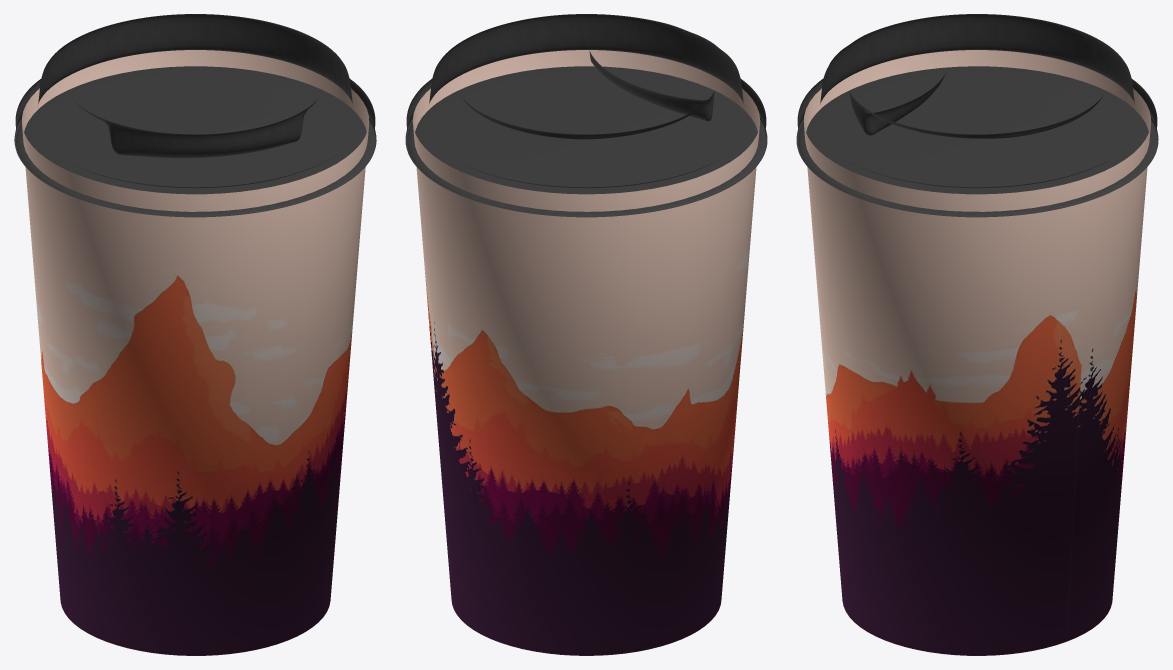
File: mugModel.glb
The picture shows the model from 3 angles, left to right: view 1: azimuth 30°, elevation 25°; view 2: azimuth 150°, elevation 25°; view 3: azimuth 270°, elevation 25°; orthographic projection.
Visible parts, largest first — view 1: Coffee Coup_0, Lid_0; view 2: Coffee Coup_0, Lid_0; view 3: Coffee Coup_0, Lid_0.
Boxes of the visible parts, x1,y1,x2,y2 form: Coffee Coup_0: [22, 50, 368, 655]; Lid_0: [14, 14, 376, 217]; Coffee Coup_0: [412, 50, 760, 655]; Lid_0: [405, 14, 767, 217]; Coffee Coup_0: [804, 50, 1150, 655]; Lid_0: [796, 14, 1158, 217].
Bounding box in the file's own units: 6.8 × 10.8 × 6.8.
Materials: 2 (1 with a texture image).
